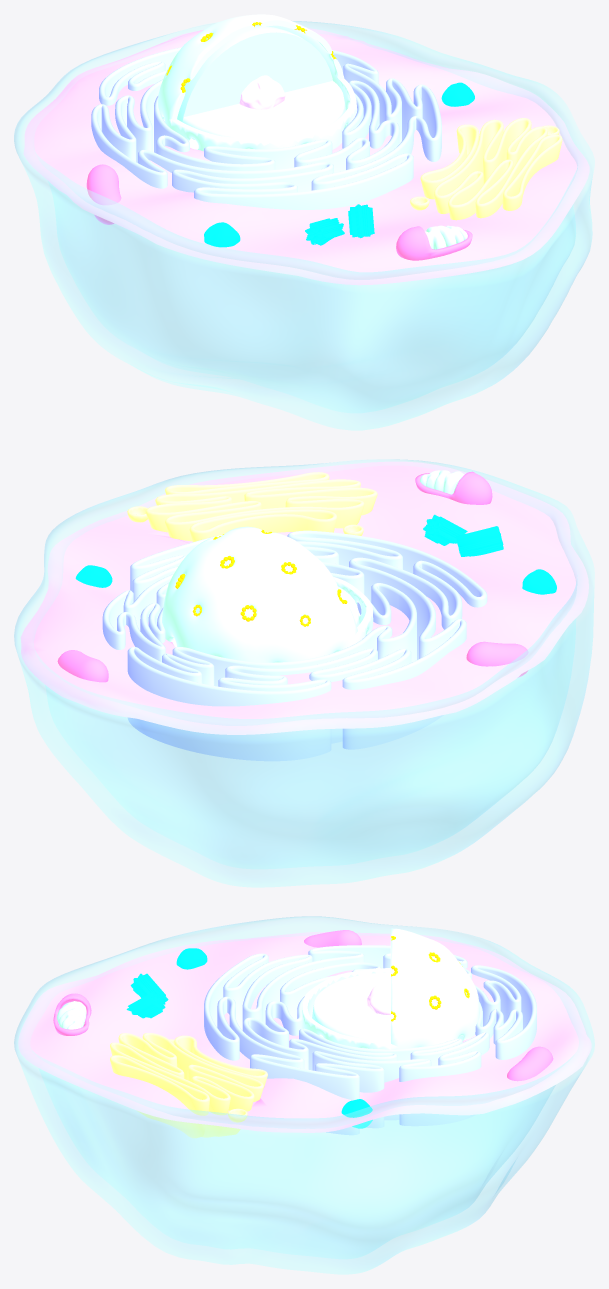
Rendered from heart-cellular.glb.
3 views of the same model, one above another, from view 1: azimuth 30°, elevation 25°; view 2: azimuth 150°, elevation 25°; view 3: azimuth 270°, elevation 25° (orthographic). The views are drawn at different scales.
Parts seen in each view (by area): view 1: Sphere_0, Sphere.001_0, BezierCurve_0, Roundcube_0, BezierCurve.002_0, Icosphere_0, Roundcube.000_0, Sphere.002_0, Roundcube.001_0, Sphere.005_0; view 2: Sphere_0, Sphere.001_0, BezierCurve_0, Icosphere_0, BezierCurve.002_0, Sphere.002_0, Roundcube.000_0, Icosphere.002_0, Sphere.005_0; view 3: Sphere_0, Sphere.001_0, BezierCurve_0, Icosphere_0, BezierCurve.002_0, Roundcube_0, Sphere.002_0, Roundcube.000_0, Sphere.005_0, Roundcube.001_0.
Boxes of the visible parts, x1,y1,x2,y2 form: Sphere_0: (14, 21, 594, 430); Sphere.001_0: (23, 28, 589, 285); BezierCurve_0: (91, 47, 441, 209); Roundcube_0: (177, 26, 345, 139); BezierCurve.002_0: (410, 118, 562, 220); Icosphere_0: (158, 14, 357, 151); Roundcube.000_0: (204, 82, 474, 247); Sphere.002_0: (86, 164, 472, 260); Roundcube.001_0: (239, 75, 285, 109); Sphere.005_0: (424, 225, 467, 249); Sphere_0: (14, 459, 594, 887); Sphere.001_0: (20, 461, 588, 734); BezierCurve_0: (102, 530, 487, 761); Icosphere_0: (162, 526, 373, 662); BezierCurve.002_0: (127, 472, 377, 541); Sphere.002_0: (57, 471, 528, 682); Roundcube.000_0: (75, 514, 556, 594); Icosphere.002_0: (175, 530, 347, 626); Sphere.005_0: (420, 470, 464, 494); Sphere_0: (14, 916, 594, 1274); Sphere.001_0: (18, 932, 591, 1132); BezierCurve_0: (204, 945, 536, 1135); Icosphere_0: (302, 928, 479, 1049); BezierCurve.002_0: (110, 1033, 267, 1138); Roundcube_0: (312, 940, 466, 1041); Sphere.002_0: (53, 930, 553, 1081); Roundcube.000_0: (126, 948, 372, 1128); Sphere.005_0: (57, 1001, 86, 1029); Roundcube.001_0: (367, 985, 390, 1014).
Bounding box in the file's own units: 2.54 × 1.7 × 3.
